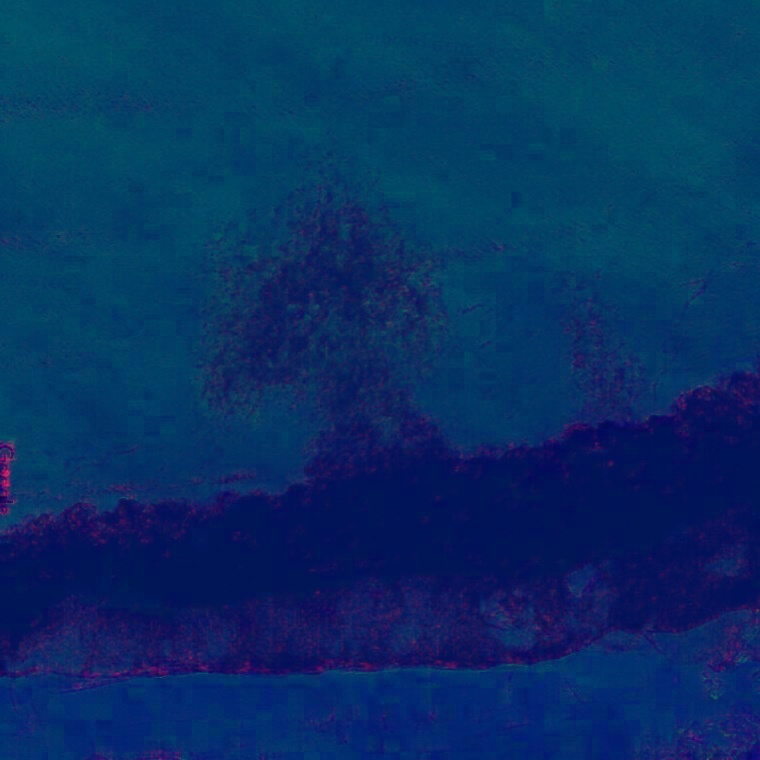rip_current: (215, 127, 497, 544)
